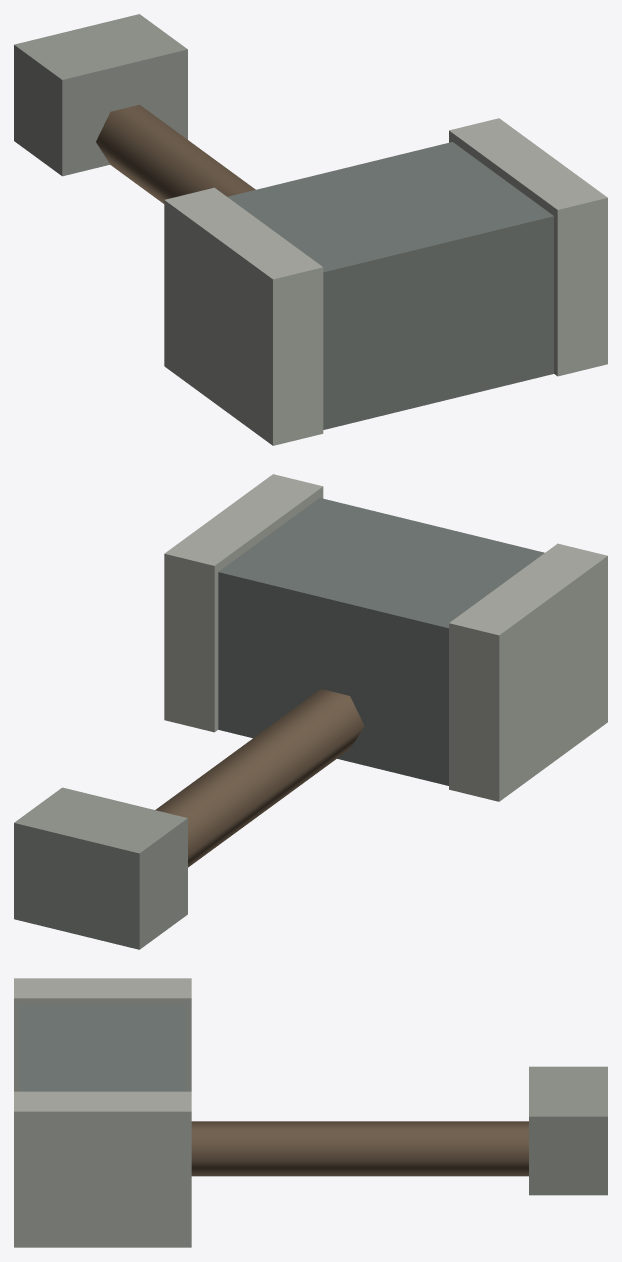
Rendered from spread-portable-counterweightmaul.fbx.
3 views of the same model, one above another, from view 1: azimuth 30°, elevation 25°; view 2: azimuth 150°, elevation 25°; view 3: azimuth 270°, elevation 25° (orthographic). The views are drawn at different scales.
Parts seen in each view (by area): view 1: spread-portable-counterweightmaul__Geometry; view 2: spread-portable-counterweightmaul__Geometry; view 3: spread-portable-counterweightmaul__Geometry.
Boxes of the visible parts, left/top/right/bottom form: spread-portable-counterweightmaul__Geometry: left=14, top=14, right=607, bottom=445; spread-portable-counterweightmaul__Geometry: left=14, top=474, right=607, bottom=949; spread-portable-counterweightmaul__Geometry: left=14, top=978, right=607, bottom=1247.
Bounding box in the file's own units: 0.4 × 0.19 × 0.7525.
